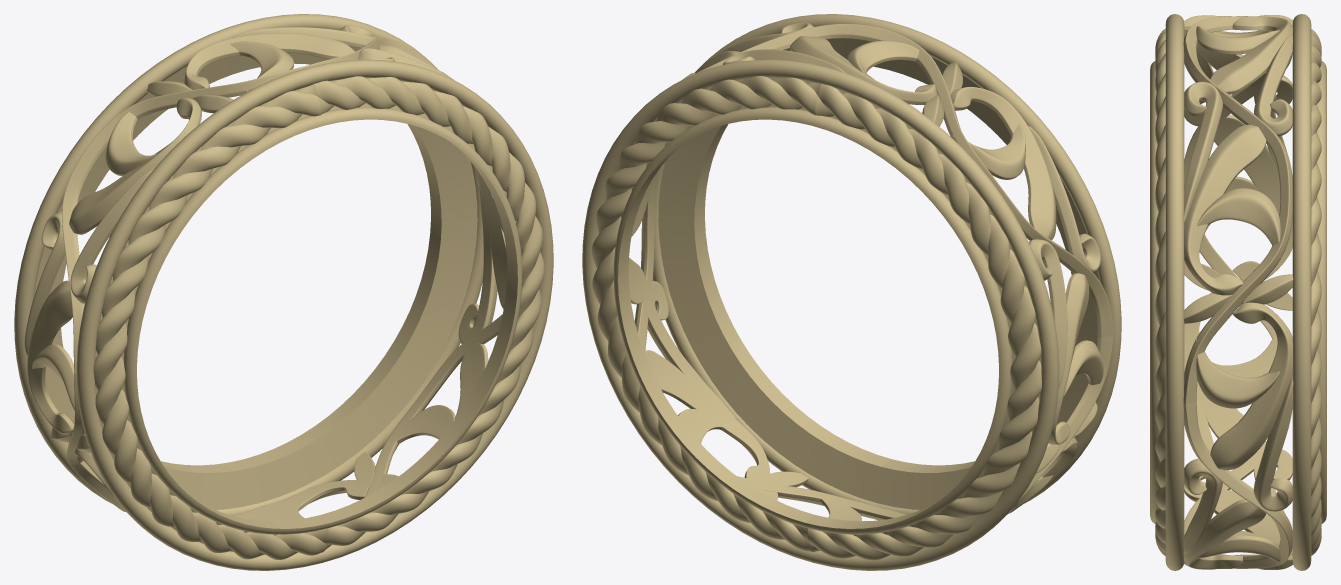
File: 543_-_ring.glb
3 renders of one model, left to right at view 1: azimuth 30°, elevation 25°; view 2: azimuth 150°, elevation 25°; view 3: azimuth 270°, elevation 25°, orthographic.
Parts seen in each view (by area): view 1: Plane001, Object004__0, Object005__0, Plane015, Plane013, Plane011, LineVenz01, Plane010, Plane009, LineVenz03, Plane014, Plane016 (+4 smaller); view 2: Plane001, Object006__0, Object007__0, Plane015, Plane009, Plane013, Plane011, LineVenz01, LineVenz03, LineVenz00, LineVenz02, Plane016 (+2 smaller); view 3: Plane001, Plane008, Plane010, Plane011, Plane009, LineVenz00, Object007__0, Object005__0, Plane016, Plane013, LineVenz03, Plane015 (+6 smaller).
Part boxes in pixels (x1,y1,x2,y2): Plane001: (14,14,553,570); Object004__0: (93,84,328,559); Object005__0: (314,76,544,550); Plane015: (69,95,233,303); Plane013: (24,211,74,442); Plane011: (147,25,377,96); LineVenz01: (62,66,305,373); Plane010: (458,168,507,343); Plane009: (376,342,488,490); LineVenz03: (364,314,502,497); Plane014: (233,452,375,521); Plane016: (74,433,127,513); Plane001: (582,14,1121,570); Object006__0: (807,84,1041,560); Object007__0: (591,76,821,551); Plane015: (942,62,1100,273); Plane009: (644,281,808,487); Plane013: (1029,239,1103,473); Plane011: (722,36,943,126); LineVenz01: (877,28,1113,337); LineVenz03: (634,213,874,518); LineVenz00: (644,23,881,217); LineVenz02: (868,336,1113,520); Plane016: (1007,402,1097,514); Plane001: (1150,14,1326,570); Plane008: (1183,81,1281,323); Plane010: (1195,274,1293,511); Plane011: (1196,15,1292,136); Plane009: (1183,458,1280,569); LineVenz00: (1183,40,1292,404); Object007__0: (1311,53,1321,555); Object005__0: (1155,53,1165,555); Plane016: (1184,261,1277,501); Plane013: (1205,75,1292,310); LineVenz03: (1183,400,1292,568); Plane015: (1184,15,1269,126).
Size of the model in its own units: 2.44 by 2.44 by 0.7739.
